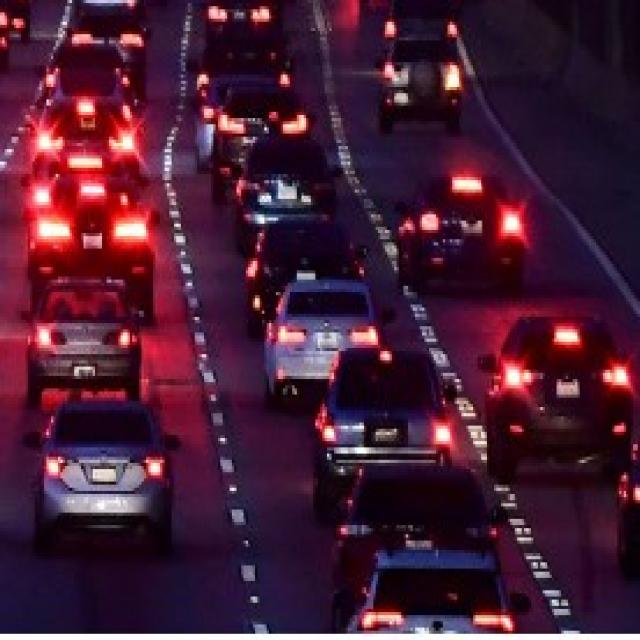car: (477, 310, 632, 482), (308, 346, 460, 512), (336, 458, 504, 604), (23, 399, 181, 550), (333, 527, 529, 640), (27, 172, 161, 318), (259, 278, 394, 406), (393, 170, 528, 296), (18, 275, 147, 397), (241, 213, 370, 329), (28, 96, 148, 198), (232, 135, 343, 242), (211, 86, 315, 200), (379, 33, 464, 132), (37, 41, 139, 118), (65, 0, 149, 90), (202, 0, 279, 49)
